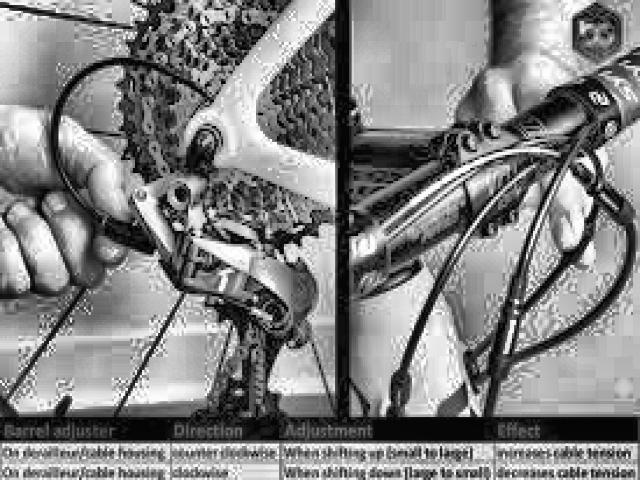cassette: (116, 1, 338, 251)
rear_derailleur: (129, 170, 319, 416)
